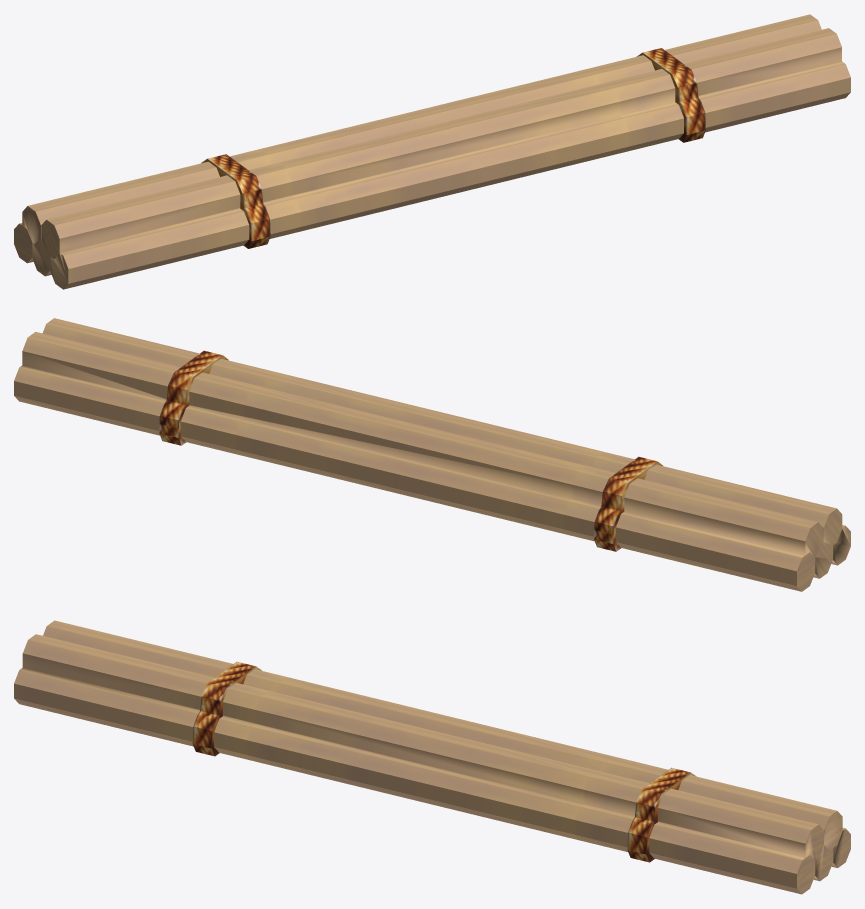
File: DJG_BoundSturdyStick5.fbx
3 views of the same model, one above another, from view 1: azimuth 30°, elevation 25°; view 2: azimuth 150°, elevation 25°; view 3: azimuth 330°, elevation 25° (orthographic).
Parts seen in each view (by area): view 1: Bound5; view 2: Bound5; view 3: Bound5.
Part boxes in pixels (<box>): Bound5: <box>14,14,850,289</box>; Bound5: <box>14,318,850,591</box>; Bound5: <box>14,620,850,894</box>.
Size of the model in its own units: 0.6653 by 0.0488 by 0.0868.
